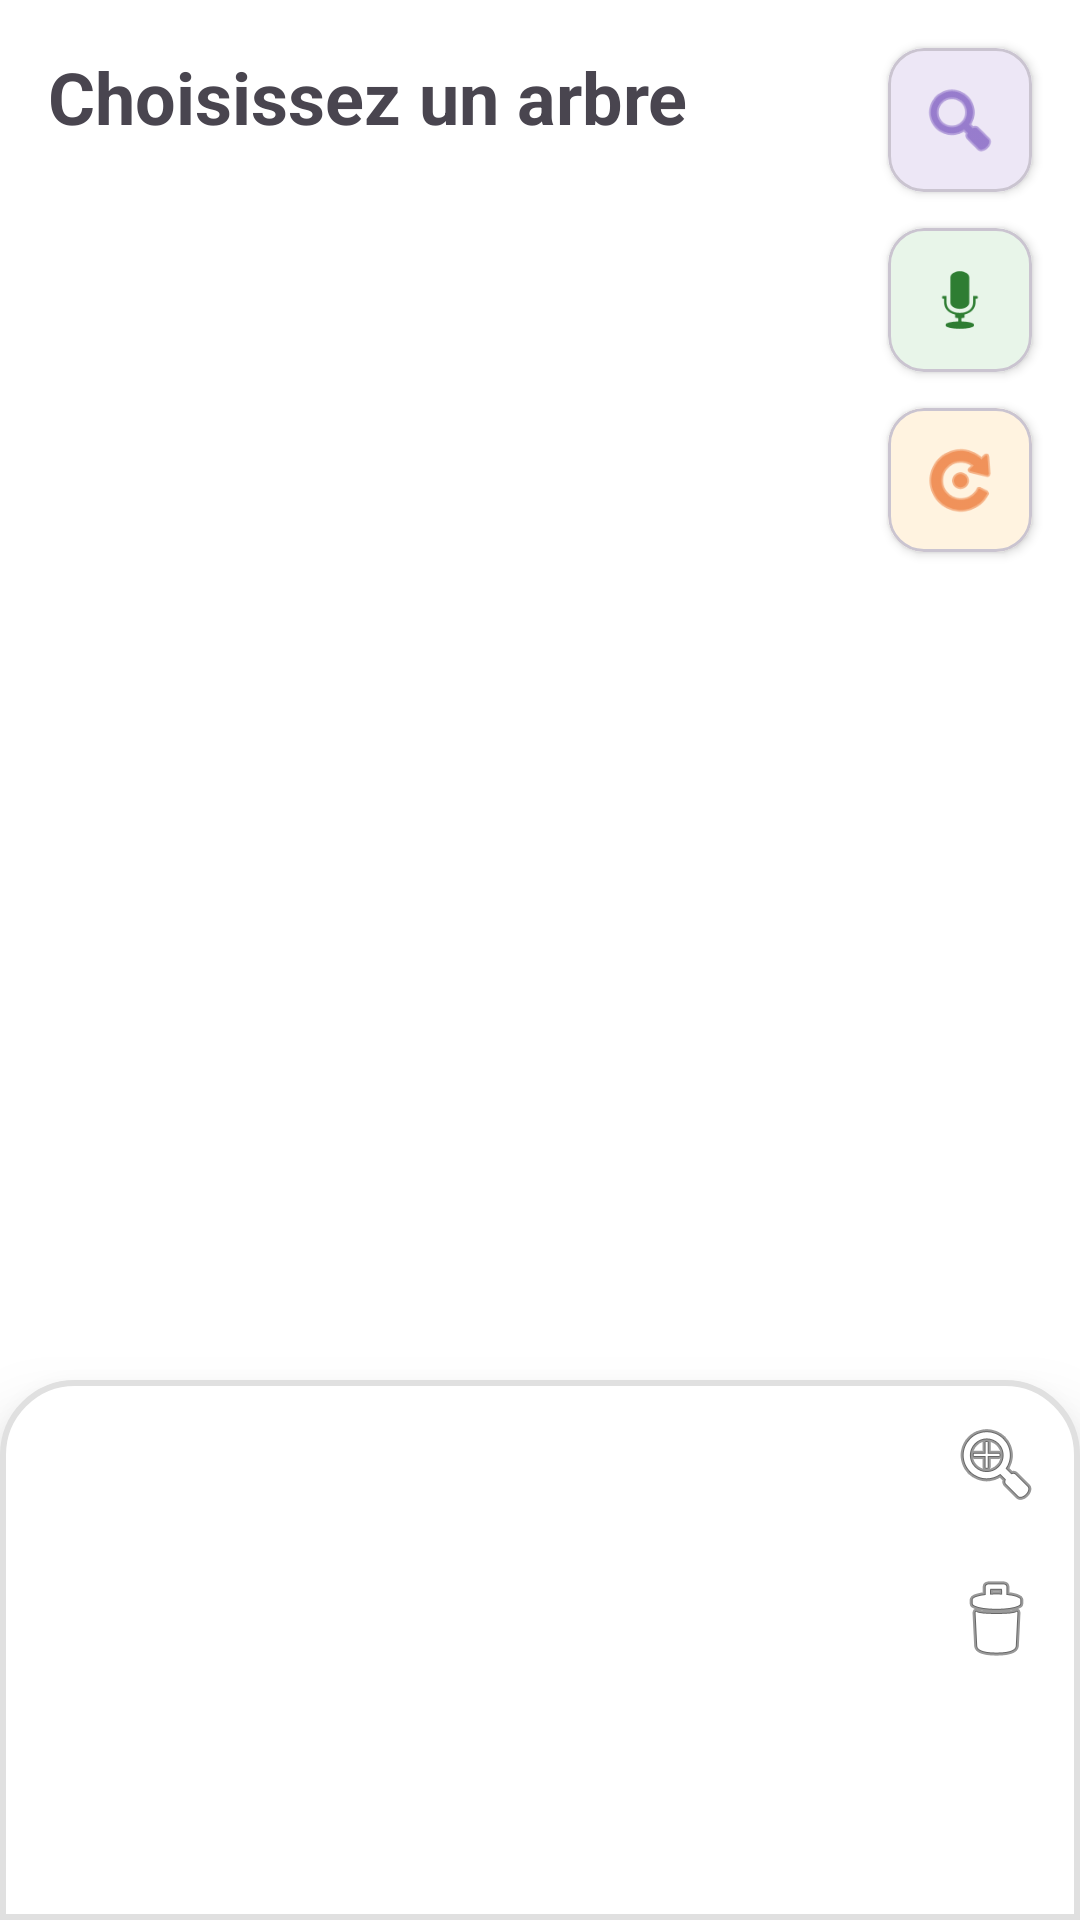

Screen size 1080 × 1920. Icon name, then its center in pixels as point (x, y):
delete: point (996, 1618)
rotate: point (960, 480)
search: point (960, 120)
speak now: point (960, 300)
zoom: point (996, 1464)
